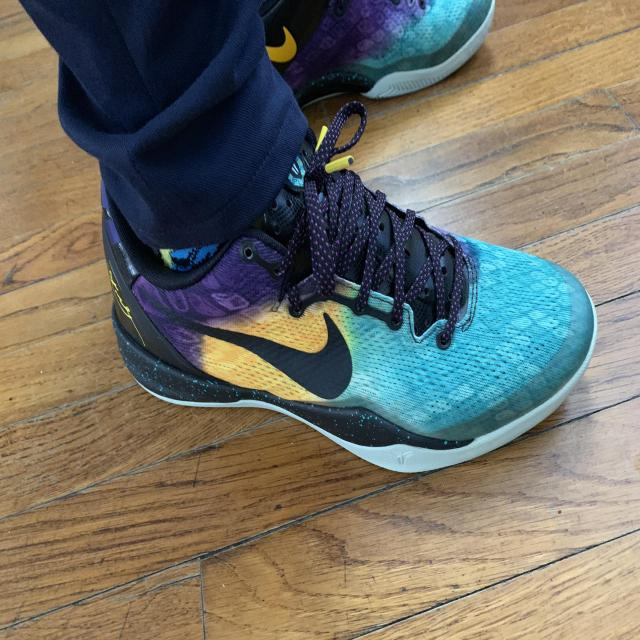shoe: (99, 127, 600, 478), (255, 0, 494, 104)
